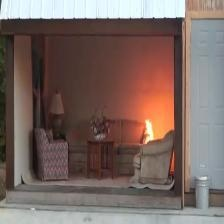fire: (138, 116, 156, 147)
